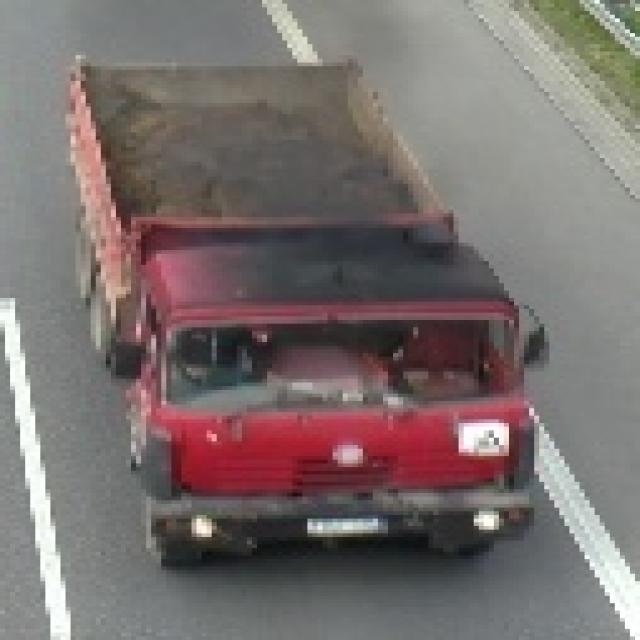truck: (56, 51, 550, 607)
